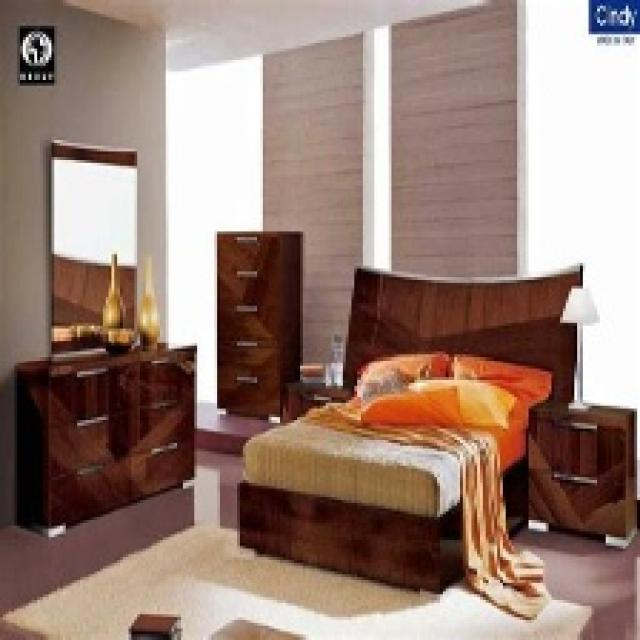Bed: (234, 260, 583, 611)
